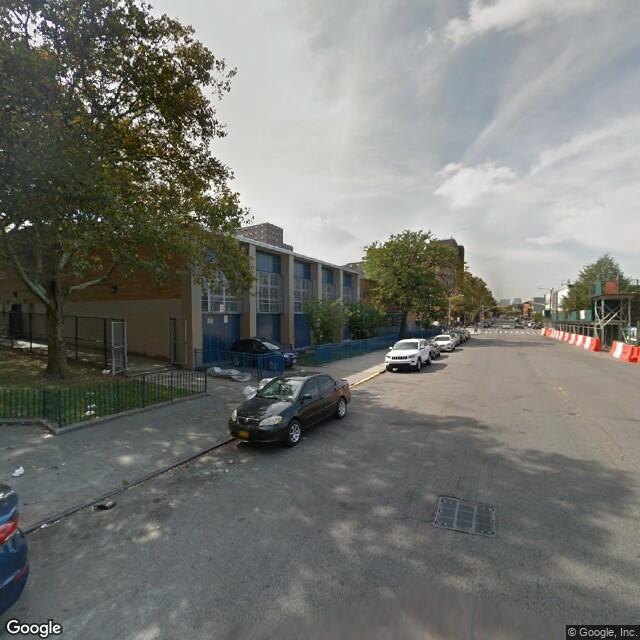litter: (90, 497, 122, 515), (10, 463, 30, 481)
